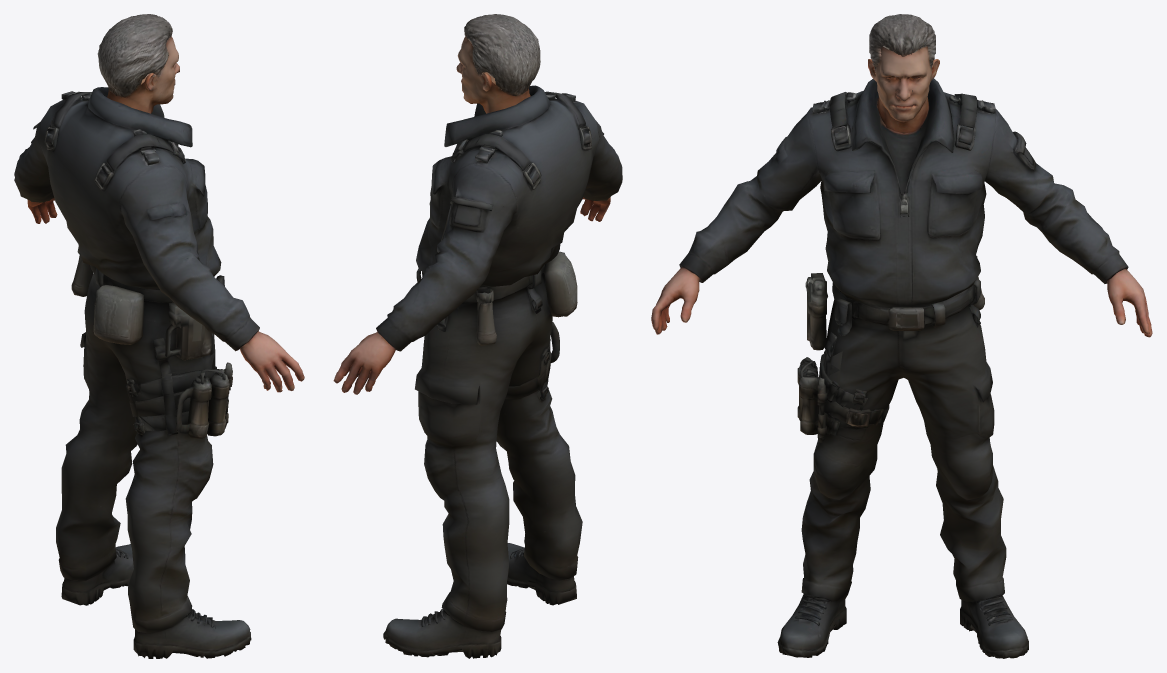
The model's file is CHR_Drake_Base.glb.
3 views of the same model, side by side, from view 1: azimuth 30°, elevation 25°; view 2: azimuth 150°, elevation 25°; view 3: azimuth 270°, elevation 25° (orthographic). The views are drawn at different scales.
Visible parts, largest first — view 1: tripo_node_44bf68b2-247b-4719-b1dd-374d9ec8d08b; view 2: tripo_node_44bf68b2-247b-4719-b1dd-374d9ec8d08b; view 3: tripo_node_44bf68b2-247b-4719-b1dd-374d9ec8d08b.
Boxes of the visible parts, box(x1,y1,x2,y2) form: tripo_node_44bf68b2-247b-4719-b1dd-374d9ec8d08b: box(14, 14, 304, 658); tripo_node_44bf68b2-247b-4719-b1dd-374d9ec8d08b: box(333, 14, 622, 658); tripo_node_44bf68b2-247b-4719-b1dd-374d9ec8d08b: box(651, 14, 1152, 658).
Bounding box in the file's own units: 0.2363 × 0.998 × 0.7363.
1 material, 1 textured.
